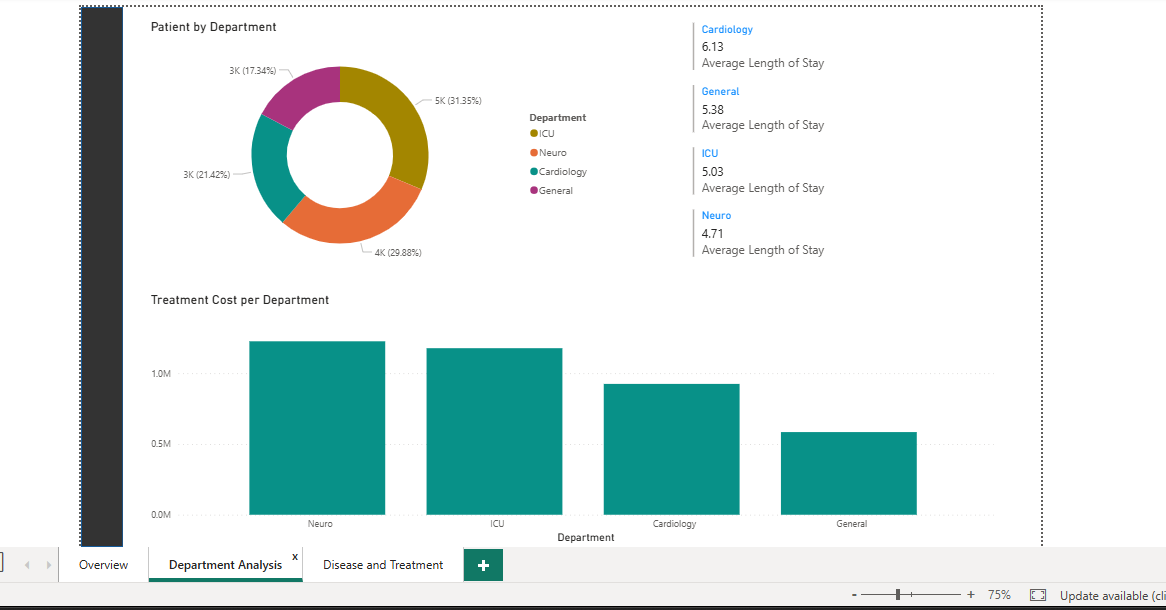

The dashboard page shown, as its layout file describes it:
{"tool":"powerbi","page":{"name":"Department Analysis","canvas":[1280,720],"ordinal":1},"visuals":[{"type":"shape","box":[0,0,56.2,720],"z":0},{"type":"donutChart","title":"Patient by Department","fields":{"Category":["Admission.Department"],"Y":["Measure.Total Patient"]},"box":[87.5,16.2,607.5,343.8],"z":1000},{"type":"lineClusteredColumnComboChart","title":"Treatment Cost per Department","fields":{"Category":["Admission.Department"],"Y":["Measure.Total Cost"]},"box":[87.5,380,1133.8,340],"z":2000},{"type":"multiRowCard","fields":{"Values":["Admission.Department","Measure.Average Length of Stay"]},"box":[810,16.2,438.8,343.8],"z":3000}]}

Visuals, with their boxes on the page's 1280x720 design canvas (x1, y1, x2, y2). These are canvas units, not pixel positions in the 1166x610 screenshot, which may show the page scaled, cropped or inside an application window:
shape: 0, 0, 56, 720
"Patient by Department" donutChart: 88, 16, 695, 360
"Treatment Cost per Department" lineClusteredColumnComboChart: 88, 380, 1221, 720
multiRowCard - Admission.Department x Measure.Average Length of Stay: 810, 16, 1249, 360
